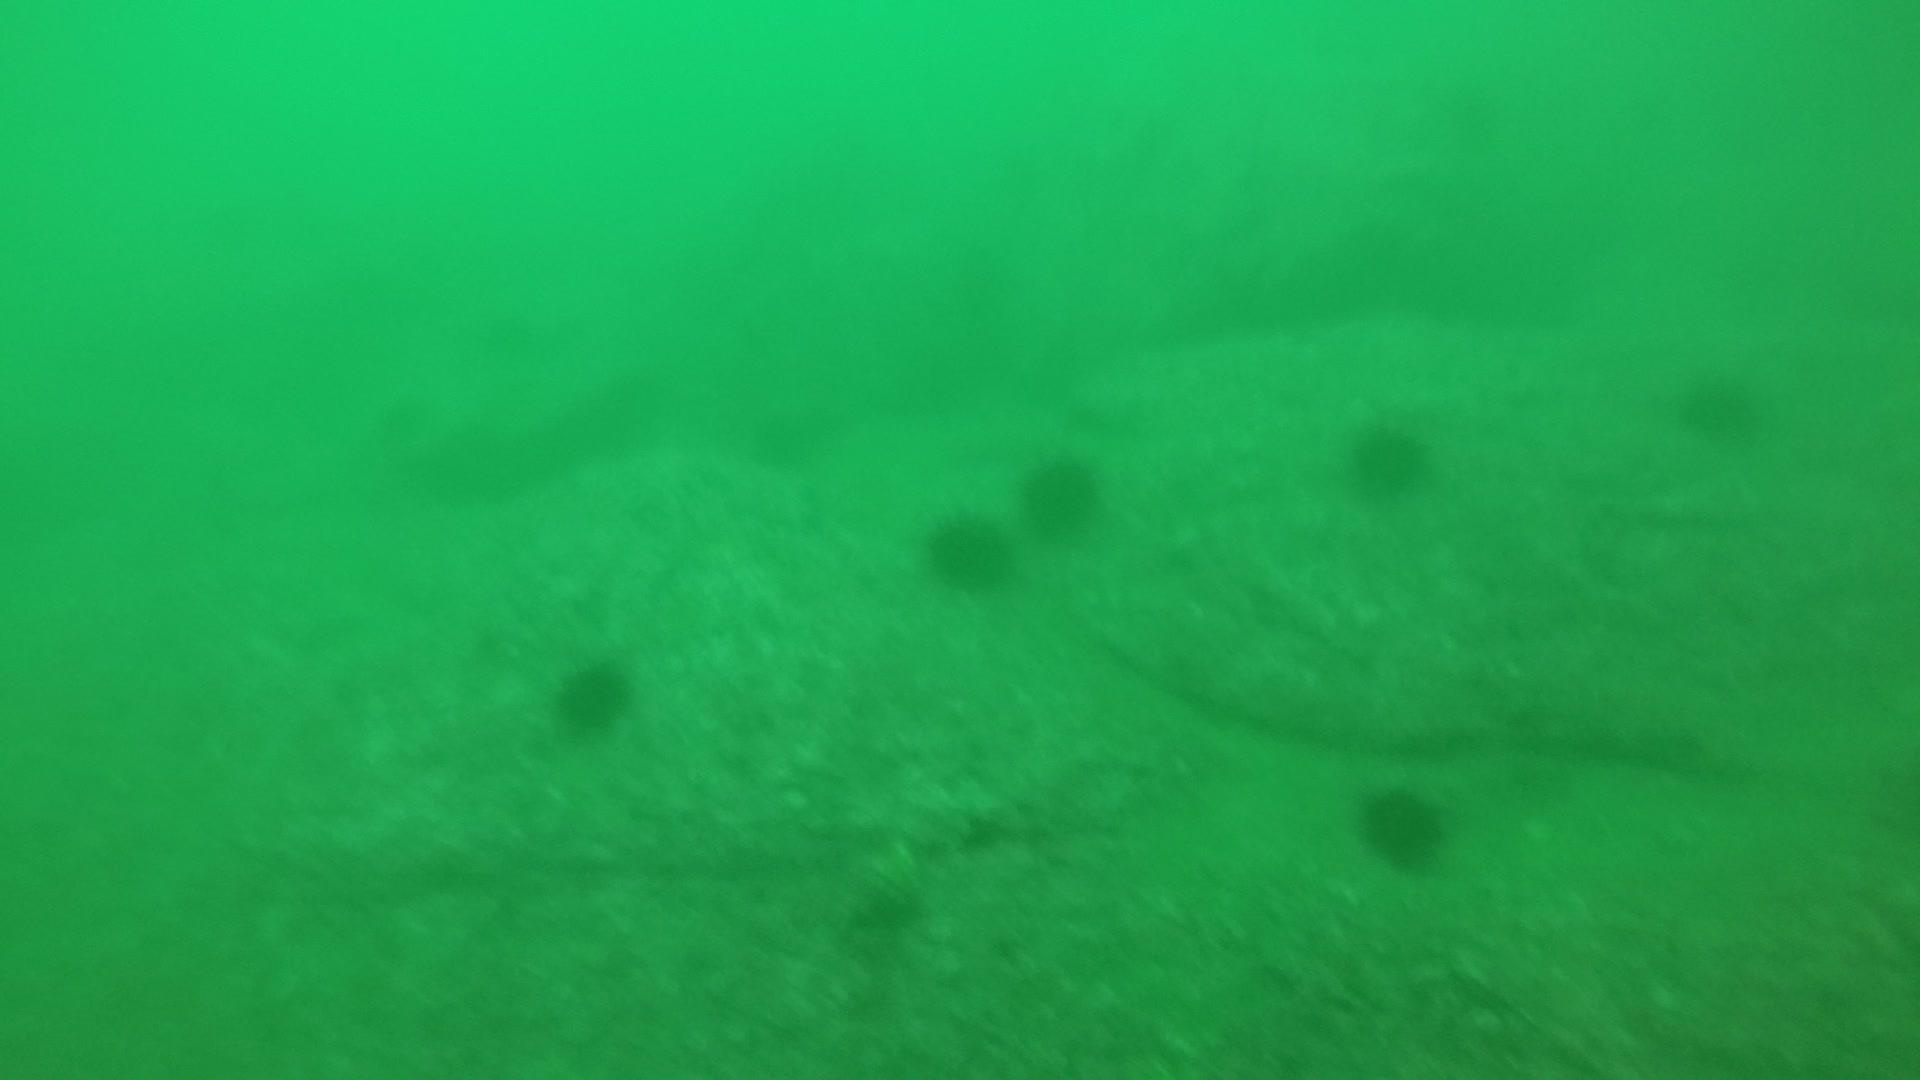echinus: (1352, 778, 1452, 874), (919, 504, 1017, 595), (1014, 447, 1108, 541), (1341, 411, 1436, 501), (1672, 360, 1770, 444), (549, 651, 638, 737)
